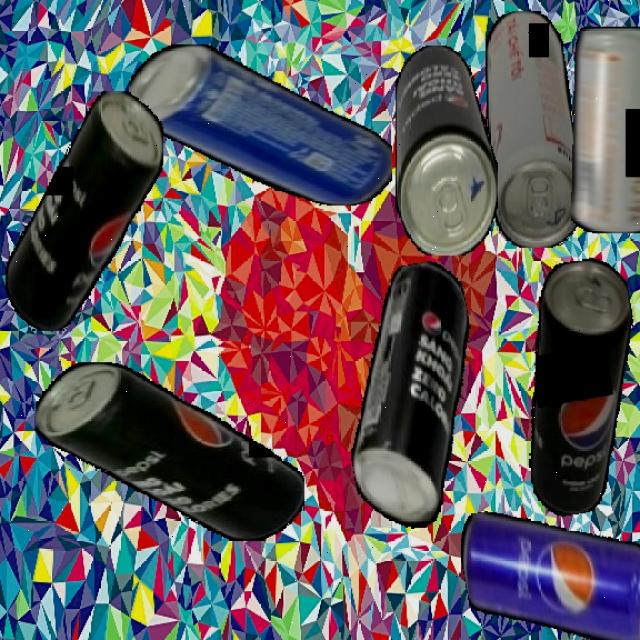debris: (321, 256, 503, 544), (34, 362, 304, 541), (128, 44, 392, 206), (495, 253, 640, 519), (5, 90, 164, 330), (454, 485, 639, 640), (484, 10, 582, 248), (394, 44, 498, 256), (571, 25, 640, 234)
